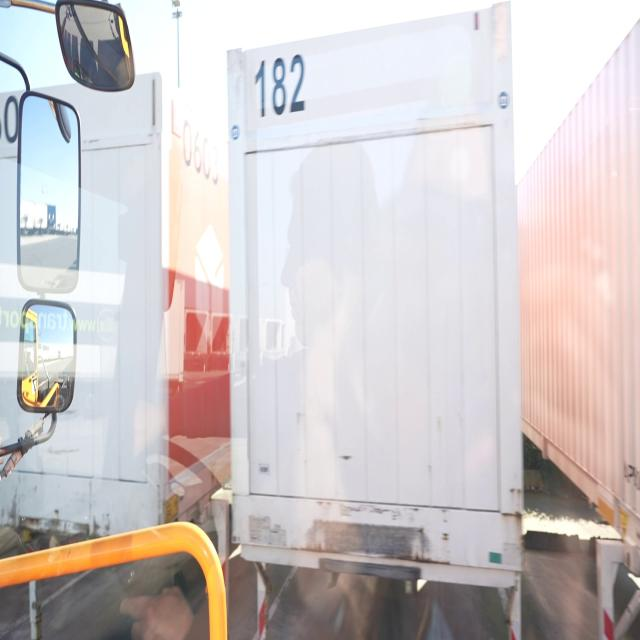Code: (251, 51, 307, 121)
